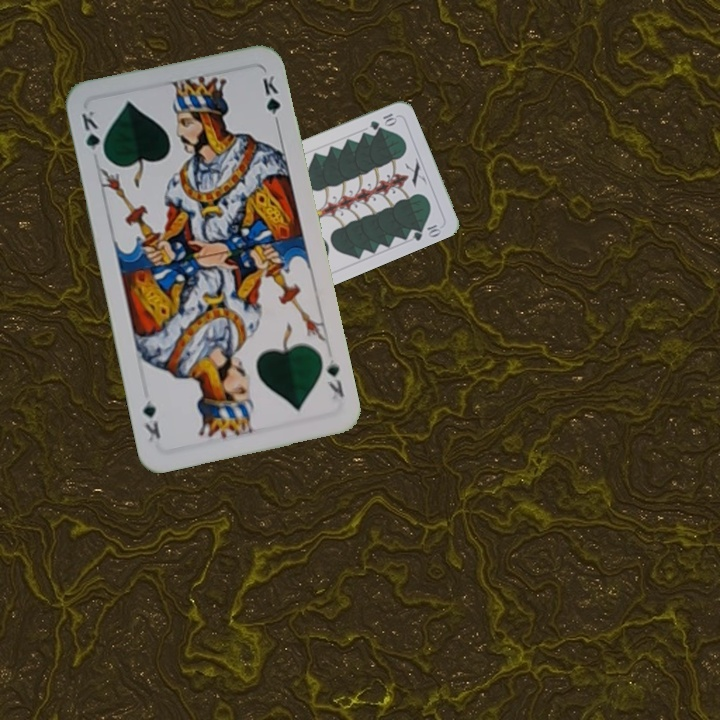G10: (366, 109, 399, 132)
GK: (77, 106, 108, 162), (322, 355, 347, 400)
